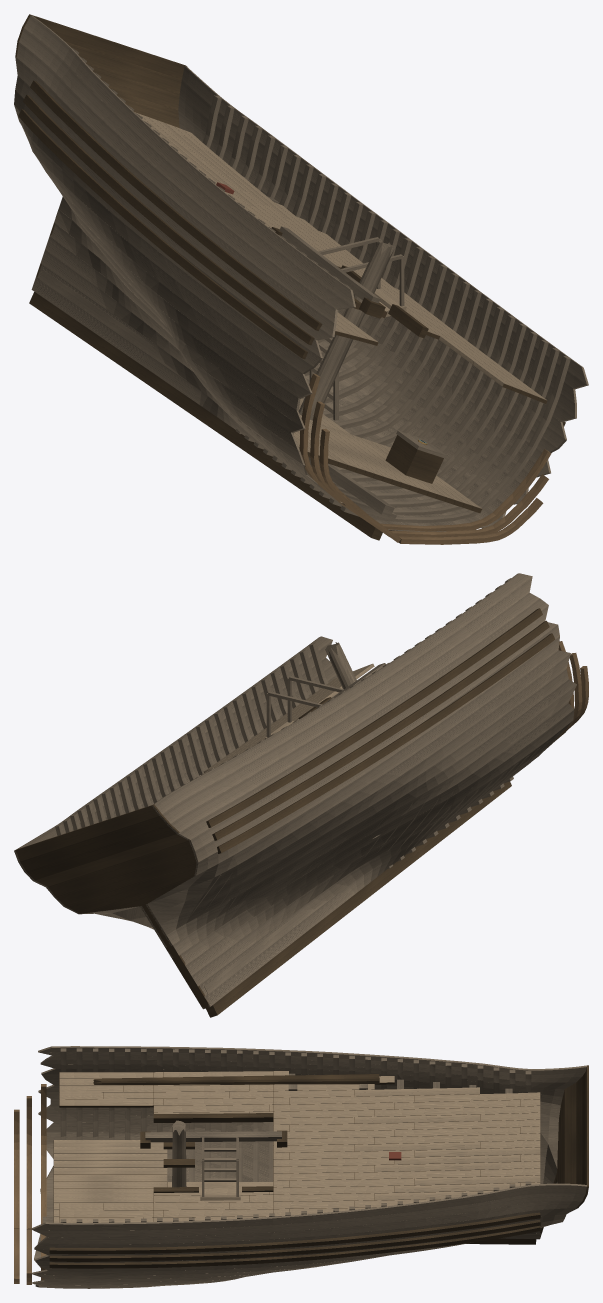
File: ship_lod1.glb
3 renders of one model, top to bottom at view 1: azimuth 30°, elevation 25°; view 2: azimuth 150°, elevation 25°; view 3: azimuth 270°, elevation 25°, orthographic. The views are drawn at different scales.
Visible parts, largest first — view 1: lod1_hull_strake_starboard_17, lod1_hull_strake_starboard_16, lod1_hull_strake_starboard_15, lod1_fractured_keel, lod1_hull_strake_starboard_10, lod1_hull_strake_port_17, lod1_hull_strake_starboard_09, lod1_wale_s_0, lod1_wale_s_1, lod1_wale_s_2, lod1_hull_strake_starboard_00, lod1_hull_strake_starboard_08 (+53 smaller); view 2: lod1_hull_strake_starboard_17, lod1_hull_strake_starboard_16, lod1_hull_strake_starboard_15, lod1_hull_strake_starboard_09, lod1_hull_strake_starboard_10, lod1_hull_strake_starboard_08, lod1_hull_strake_starboard_07, lod1_hull_strake_starboard_06, lod1_hull_strake_starboard_05, lod1_hull_strake_starboard_04, lod1_hull_strake_starboard_03, lod1_fractured_keel (+24 smaller); view 3: lod1_hull_strake_port_17, lod1_hull_strake_port_16, lod1_hull_strake_port_15, lod1_wale_p_0, lod1_wale_p_1, lod1_wale_p_2, lod1_hull_strake_starboard_17, lod1_fallen_yard, lod1_hull_strake_port_14, lod1_hull_strake_starboard_14, lod1_hull_strake_starboard_13, lod1_hull_strake_starboard_15 (+112 smaller).
Boxes of the visible parts, left/top/right/bottom form: lod1_hull_strake_starboard_17: left=24, top=15, right=355, bottom=307; lod1_hull_strake_starboard_16: left=19, top=28, right=355, bottom=309; lod1_hull_strake_starboard_15: left=16, top=42, right=337, bottom=323; lod1_fractured_keel: left=29, top=292, right=382, bottom=540; lod1_hull_strake_starboard_10: left=22, top=127, right=314, bottom=373; lod1_hull_strake_port_17: left=182, top=66, right=588, bottom=384; lod1_hull_strake_starboard_09: left=36, top=156, right=312, bottom=393; lod1_wale_s_0: left=30, top=80, right=322, bottom=330; lod1_wale_s_1: left=23, top=94, right=314, bottom=345; lod1_wale_s_2: left=18, top=109, right=307, bottom=359; lod1_hull_strake_starboard_00: left=32, top=276, right=345, bottom=505; lod1_hull_strake_starboard_08: left=51, top=179, right=312, bottom=398; lod1_hull_strake_starboard_17: left=152, top=573, right=532, bottom=815; lod1_hull_strake_starboard_16: left=160, top=576, right=532, bottom=825; lod1_hull_strake_starboard_15: left=168, top=592, right=539, bottom=833; lod1_hull_strake_starboard_09: left=146, top=650, right=570, bottom=914; lod1_hull_strake_starboard_10: left=146, top=636, right=559, bottom=904; lod1_hull_strake_starboard_08: left=152, top=653, right=570, bottom=924; lod1_hull_strake_starboard_07: left=159, top=669, right=568, bottom=935; lod1_hull_strake_starboard_06: left=165, top=679, right=576, bottom=945; lod1_hull_strake_starboard_05: left=173, top=685, right=576, bottom=955; lod1_hull_strake_starboard_04: left=180, top=703, right=573, bottom=965; lod1_hull_strake_starboard_03: left=185, top=710, right=574, bottom=975; lod1_fractured_keel: left=206, top=781, right=511, bottom=1017; lod1_hull_strake_port_17: left=32, top=1183, right=586, bottom=1230; lod1_hull_strake_port_16: left=33, top=1193, right=585, bottom=1237; lod1_hull_strake_port_15: left=40, top=1201, right=581, bottom=1244; lod1_wale_p_0: left=49, top=1212, right=540, bottom=1254; lod1_wale_p_1: left=49, top=1220, right=540, bottom=1261; lod1_wale_p_2: left=49, top=1225, right=540, bottom=1268; lod1_hull_strake_starboard_17: left=38, top=1046, right=586, bottom=1074; lod1_fallen_yard: left=93, top=1074, right=379, bottom=1084; lod1_hull_strake_port_14: left=34, top=1208, right=577, bottom=1249; lod1_hull_strake_starboard_14: left=40, top=1059, right=575, bottom=1089; lod1_hull_strake_starboard_13: left=41, top=1064, right=564, bottom=1096; lod1_hull_strake_starboard_15: left=46, top=1055, right=581, bottom=1082.
Bounding box in the file's own units: 6.21 × 5.46 × 14.65.
Materials: 9 (4 with a texture image).
